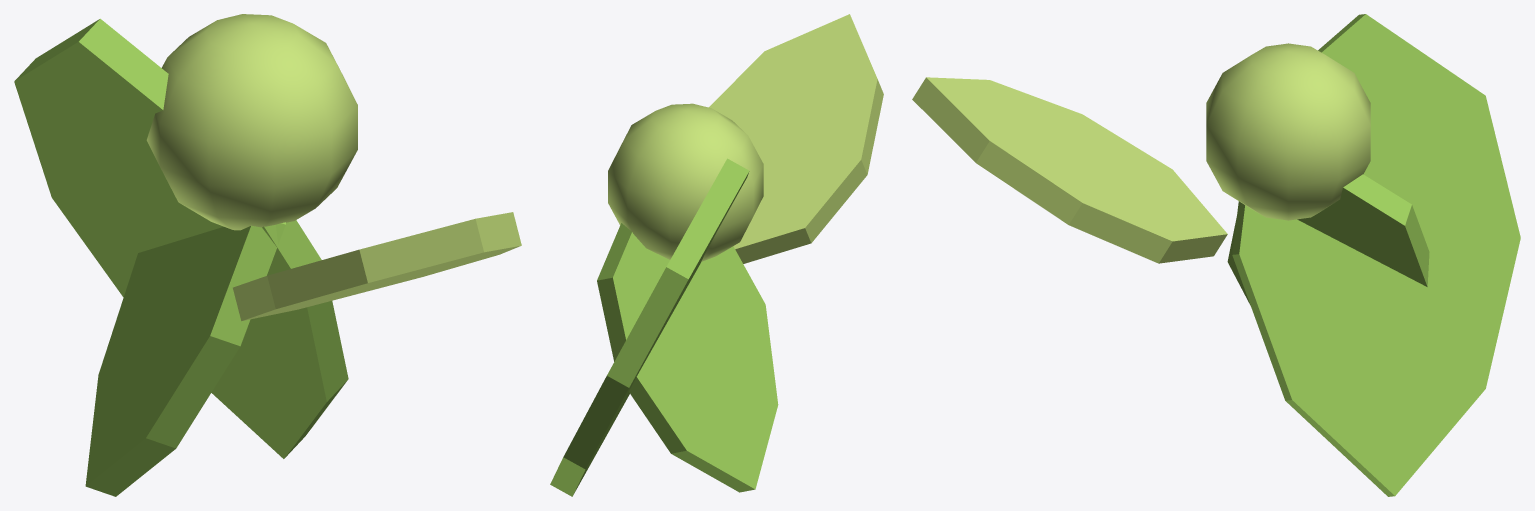
Rendered from lettuce-sprout.glb.
3 renders of one model, left to right at view 1: azimuth 30°, elevation 25°; view 2: azimuth 150°, elevation 25°; view 3: azimuth 270°, elevation 25°, orthographic. The views are drawn at different scales.
Visible parts, largest first — view 1: lettuce_sprout_lettuce, lettuce_sprout_lettuceCore; view 2: lettuce_sprout_lettuceCore, lettuce_sprout_lettuce; view 3: lettuce_sprout_lettuce, lettuce_sprout_lettuceCore.
Boxes of the visible parts, bbox=[...] form: lettuce_sprout_lettuce: bbox=[14, 18, 348, 496]; lettuce_sprout_lettuceCore: bbox=[146, 14, 521, 321]; lettuce_sprout_lettuceCore: bbox=[608, 14, 883, 263]; lettuce_sprout_lettuce: bbox=[550, 158, 778, 496]; lettuce_sprout_lettuce: bbox=[1227, 14, 1520, 496]; lettuce_sprout_lettuceCore: bbox=[912, 43, 1370, 263].
Size of the model in its own units: 0.0582 by 0.1119 by 0.1512.
